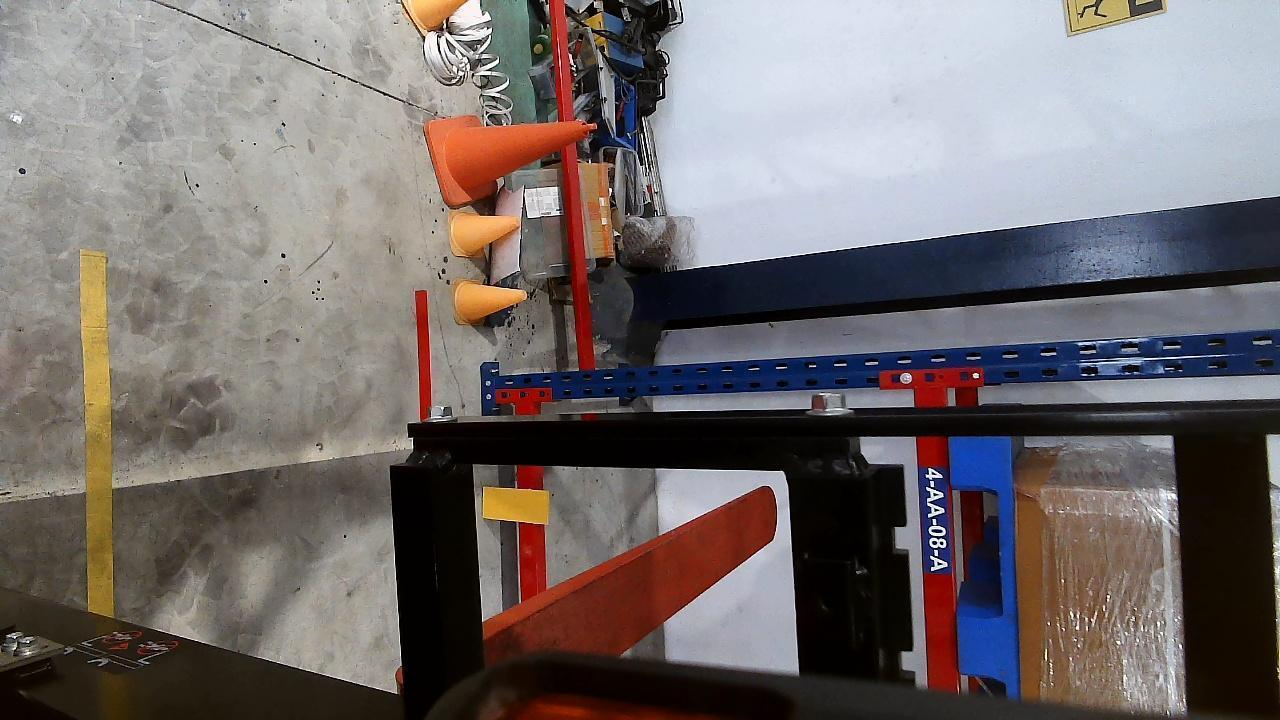red_line: (414, 290, 433, 420)
yellow_line: (80, 249, 113, 616)
